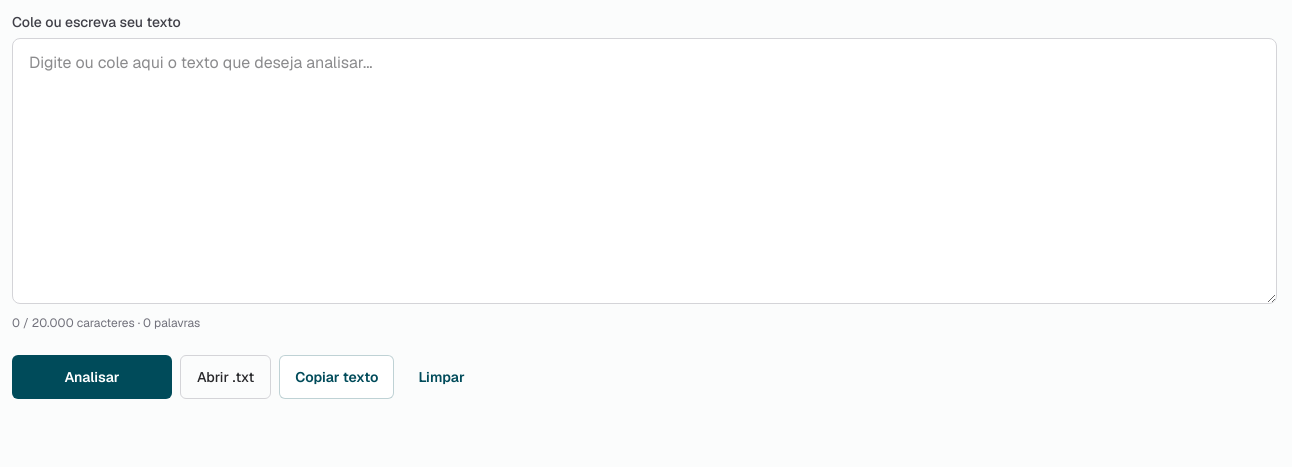
LegibilidadeTool › texto vazio: mensagem amigável, sem resultado
The image size is (1292, 467).
Click the button "Analisar" at [92, 377], box [12,355,172,399]
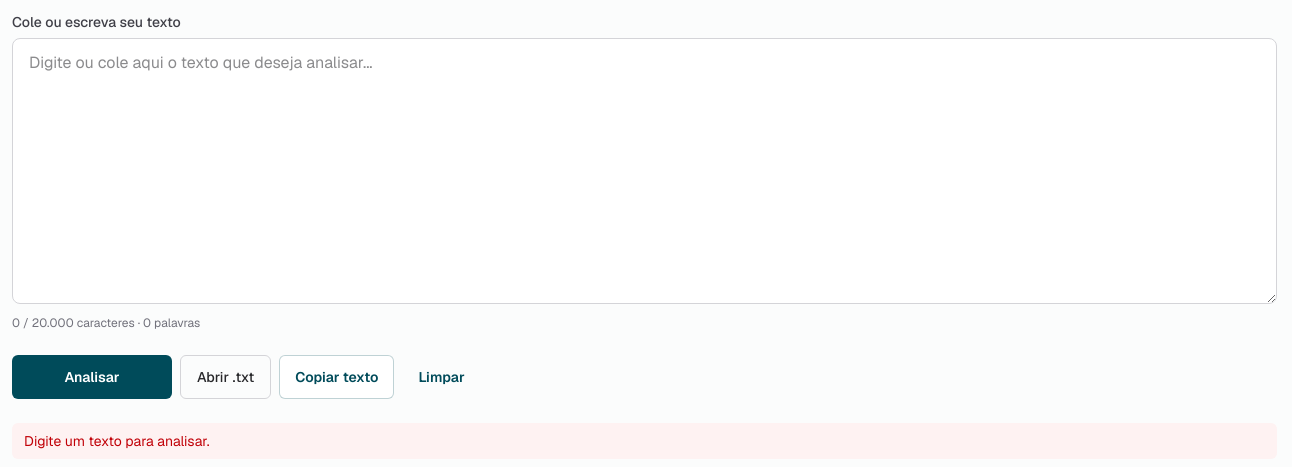
Result: the message reads "Digite um texto para analisar." at [24,432,210,450]
